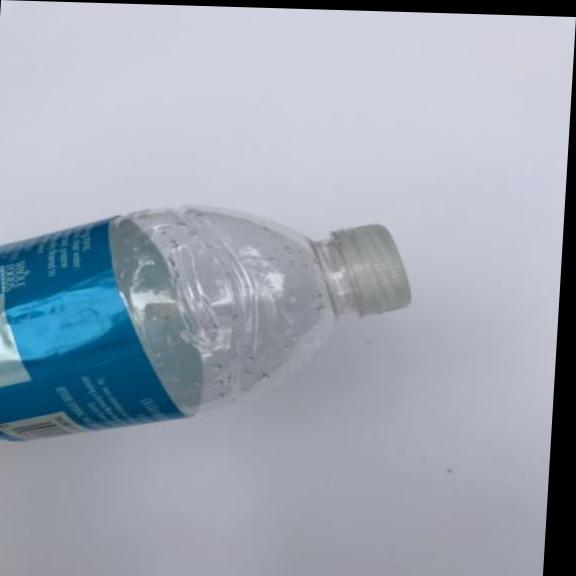Plastik: (0, 194, 424, 462)
